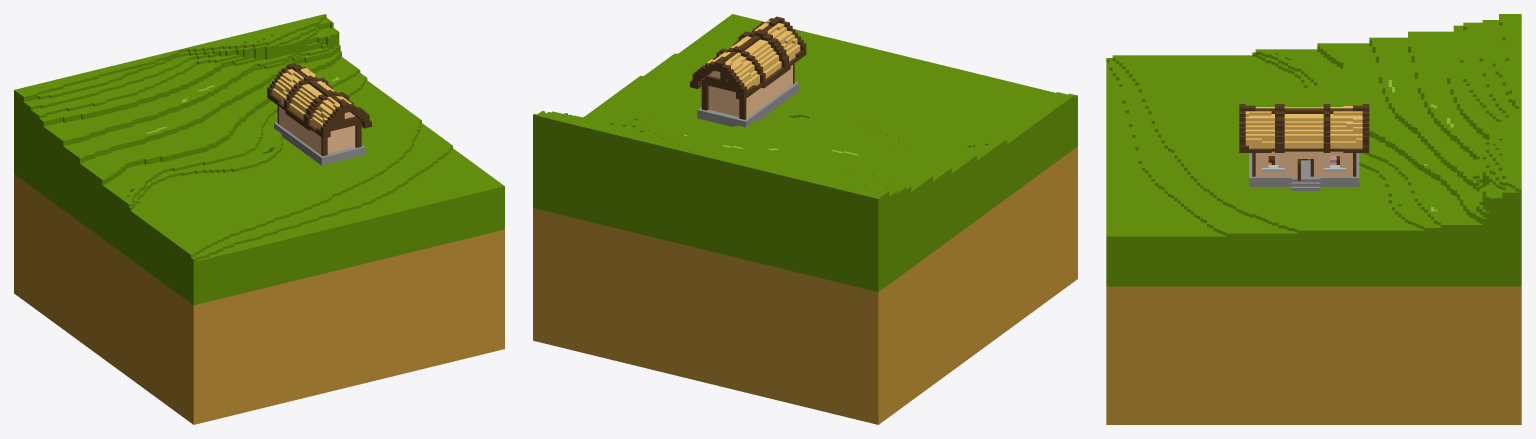
3 renders of one model, left to right at view 1: azimuth 30°, elevation 25°; view 2: azimuth 150°, elevation 25°; view 3: azimuth 270°, elevation 25°, orthographic. The views are drawn at different scales.
Parts seen in each view (by area): view 1: 10B; view 2: 10B; view 3: 10B.
Part boxes in pixels (x1,y1,x2,y2): 10B: (14, 14, 504, 424); 10B: (533, 14, 1077, 424); 10B: (1106, 14, 1521, 424).
Size of the model in its own units: 12.8 by 8.9 by 12.8.
1 material, 1 textured.
